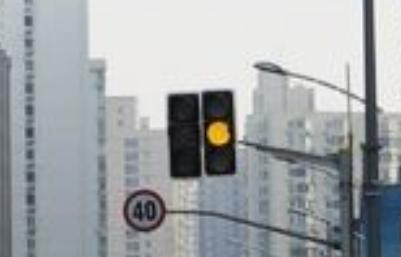yellow_light: (202, 91, 236, 175)
